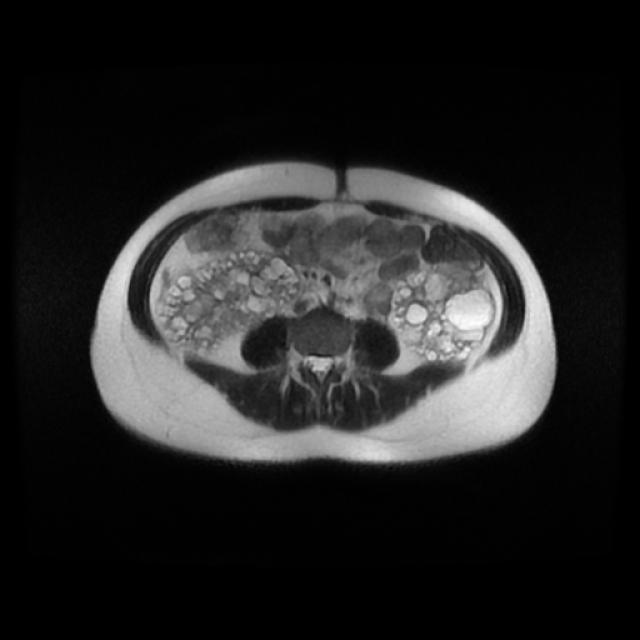sag: (158, 248, 303, 356)
sol: (395, 261, 496, 364)
